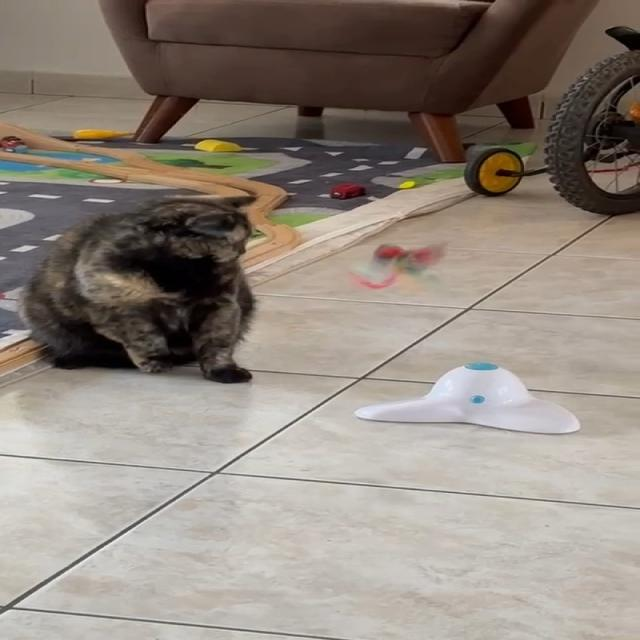authorized: (16, 194, 259, 384)
